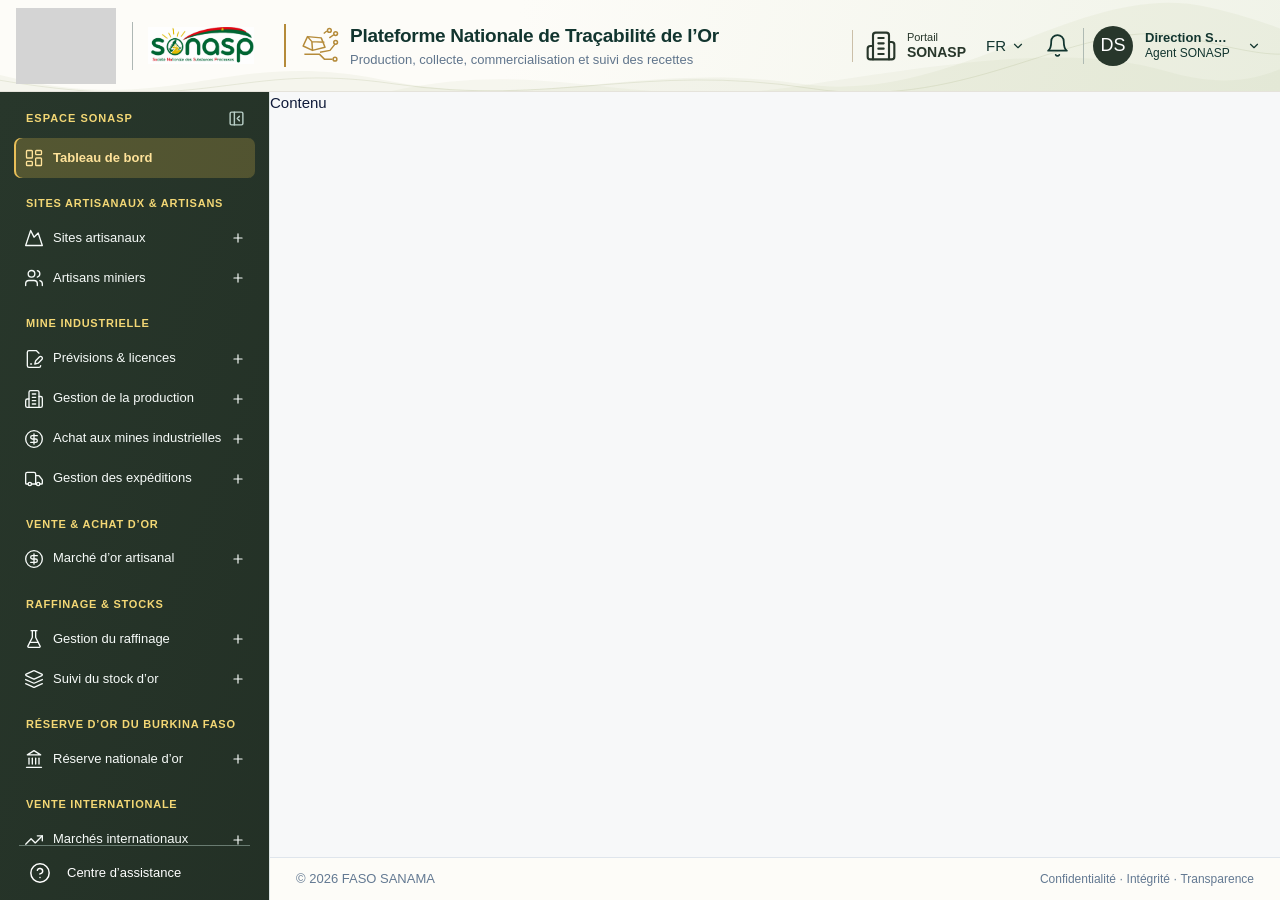
NationalDashboardLayout › déploie les sous-menus des groupes métier
Check: the link "Or en coffre" is not shown
Click the button "Gestion de la production" at (134, 399), box [14,379,255,419]
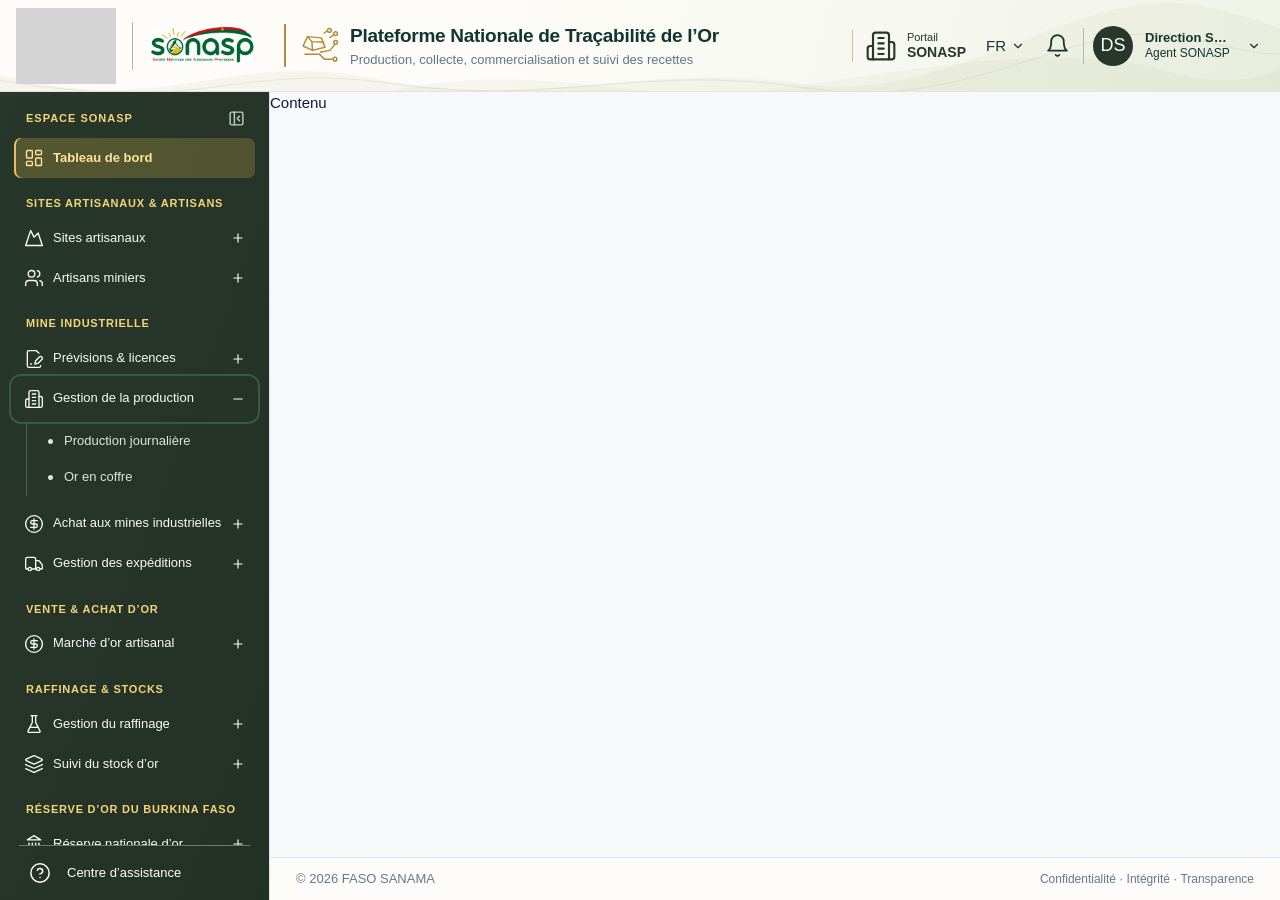
Check: the link "Licences d’exportation" is not shown
Click the button "Prévisions & licences" at (134, 359), box [14,339,255,379]
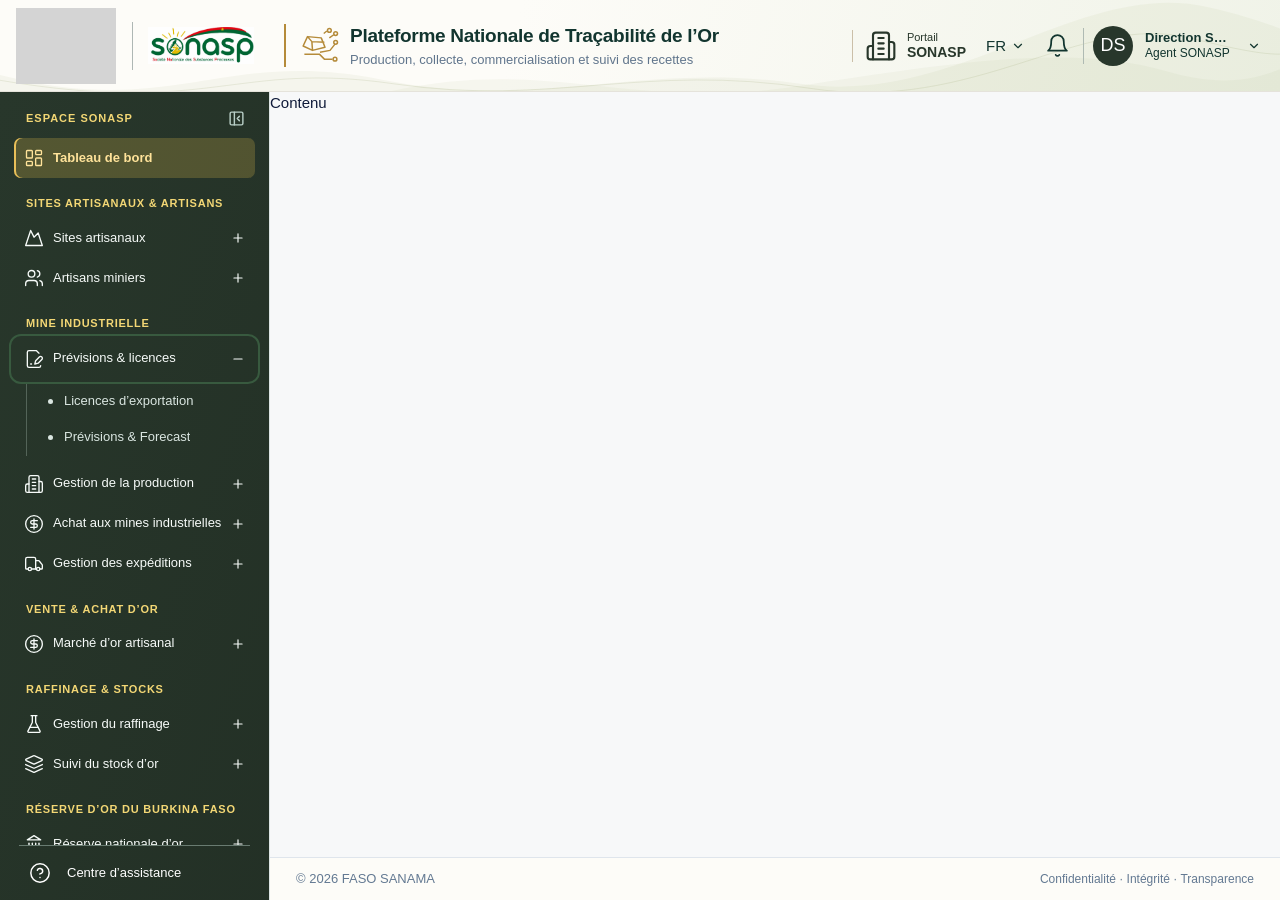
Check: the button "Gestion de la production" is collapsed, box [14,464,255,504]
Click the button "Gestion des expéditions" at (134, 564), box [14,544,255,584]
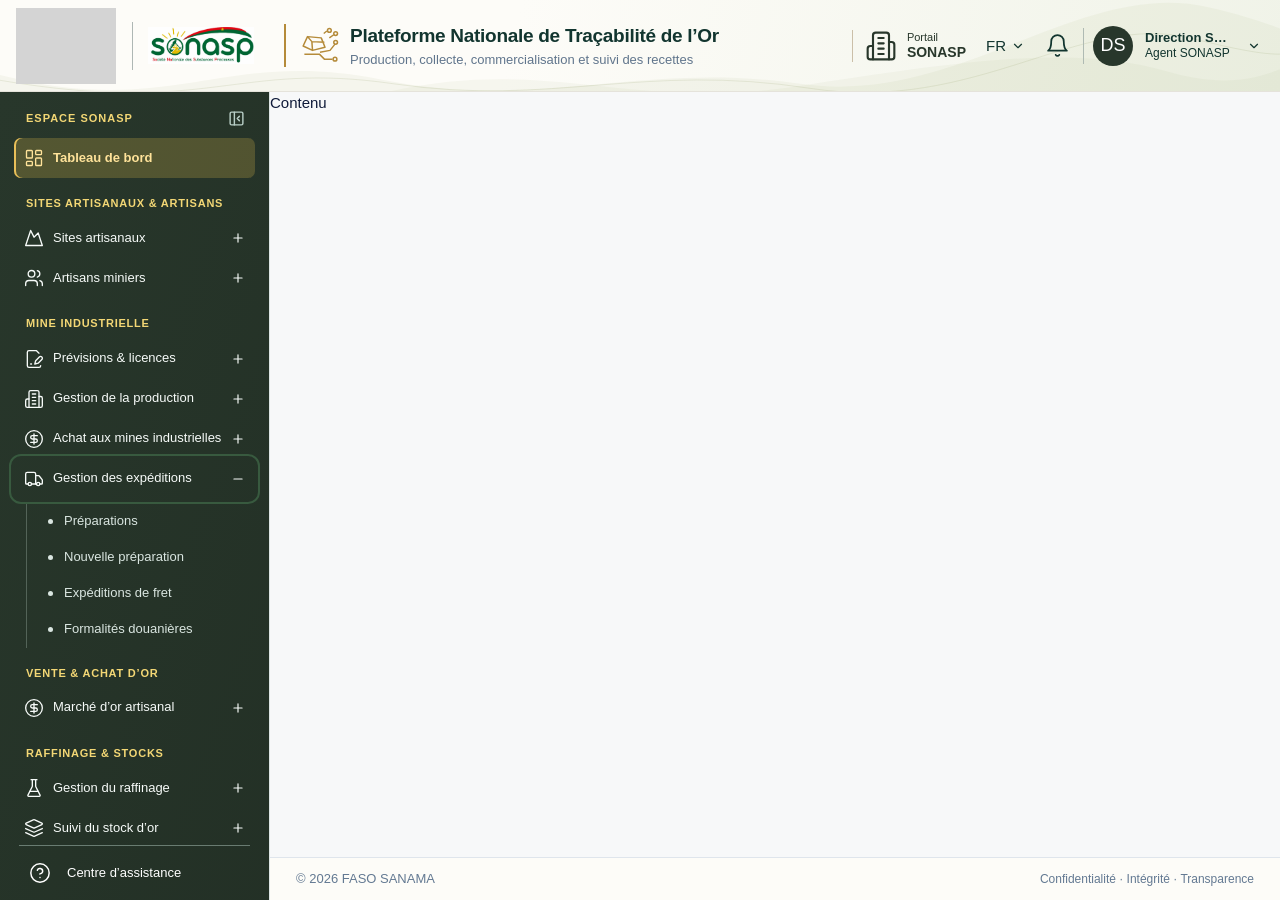
Check: the link "Or en coffre" is not shown
Check: the button "Gestion de la production" is collapsed, box [14,379,255,419]
# Un second clic sur le déclencheur referme son propre groupe.
Click the button "Gestion des expéditions" at (134, 479), box [14,459,255,499]
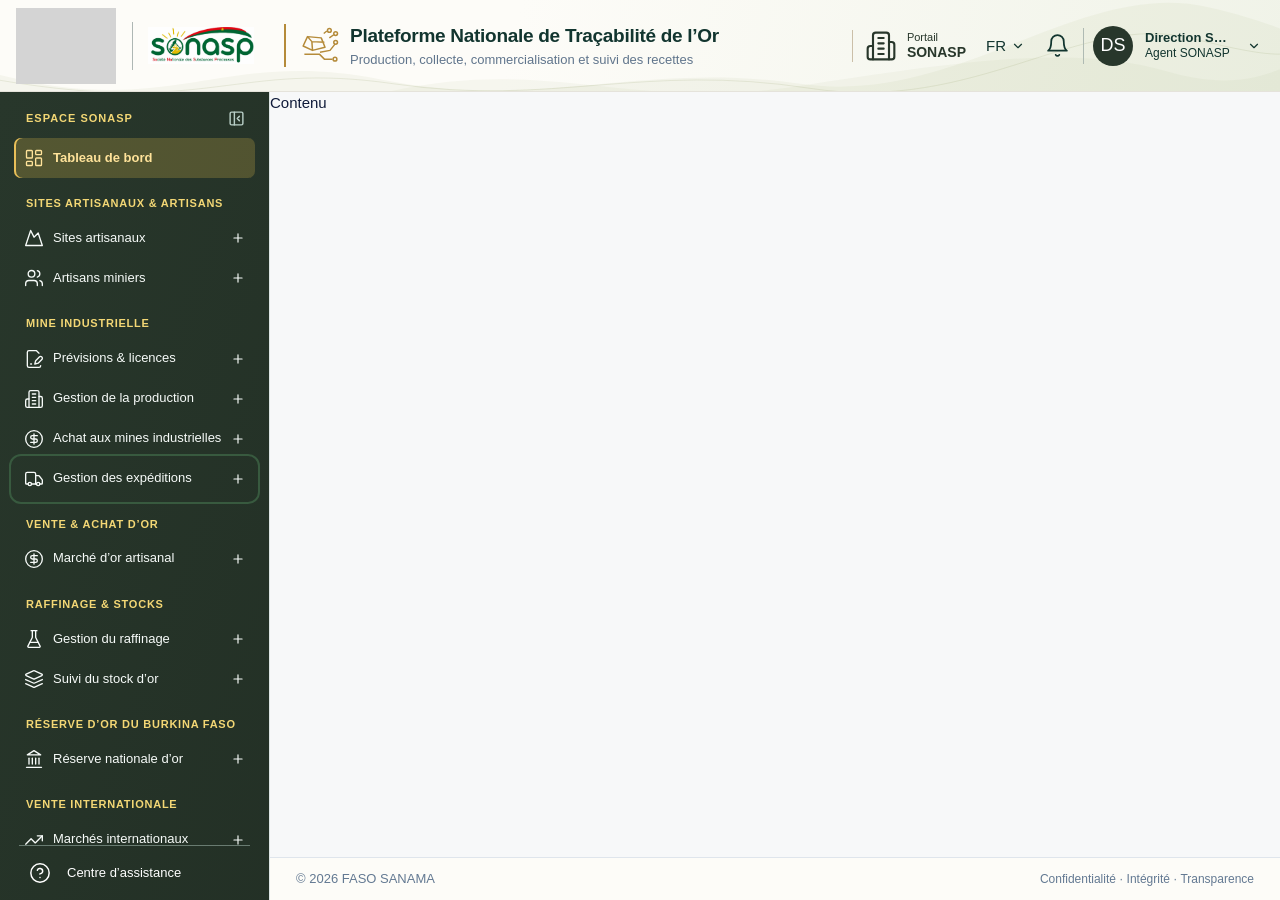
Check: the link "Formalités douanières" is gone
